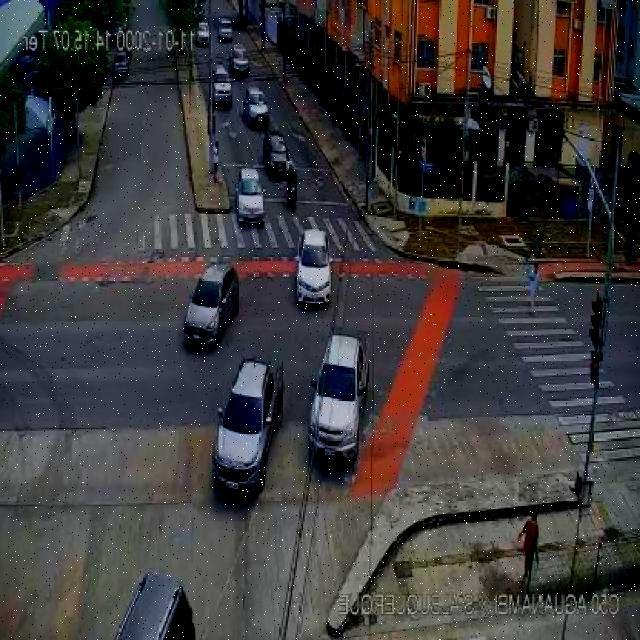Car: (210, 355, 284, 503), (307, 332, 370, 472), (108, 572, 197, 639), (183, 260, 240, 349), (295, 228, 332, 307), (235, 168, 265, 225), (264, 134, 291, 179), (242, 86, 269, 126), (14, 49, 40, 79), (212, 70, 233, 106), (229, 46, 250, 78), (113, 50, 131, 79), (218, 17, 234, 42), (195, 21, 210, 47)
